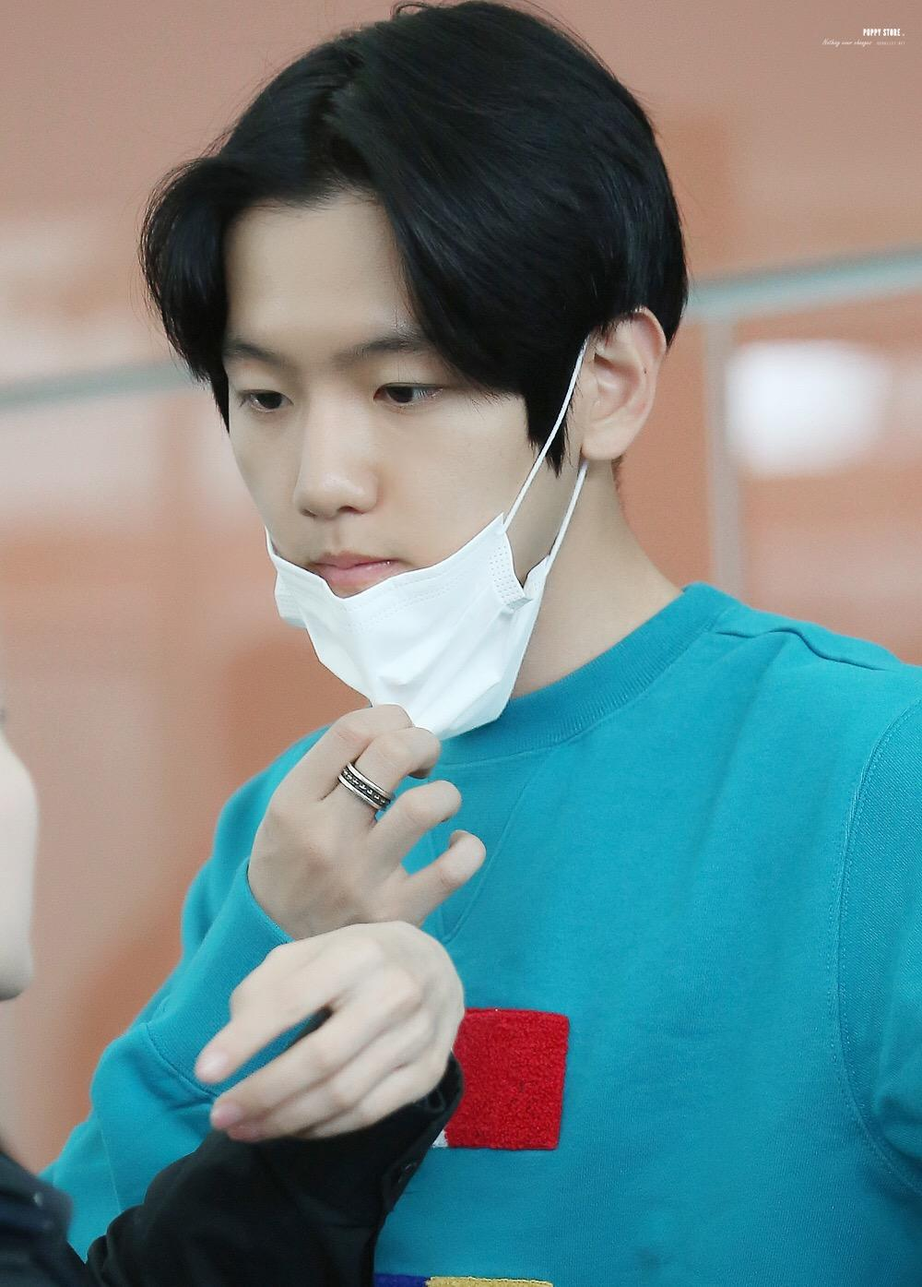WRONG: (225, 279, 661, 715)
